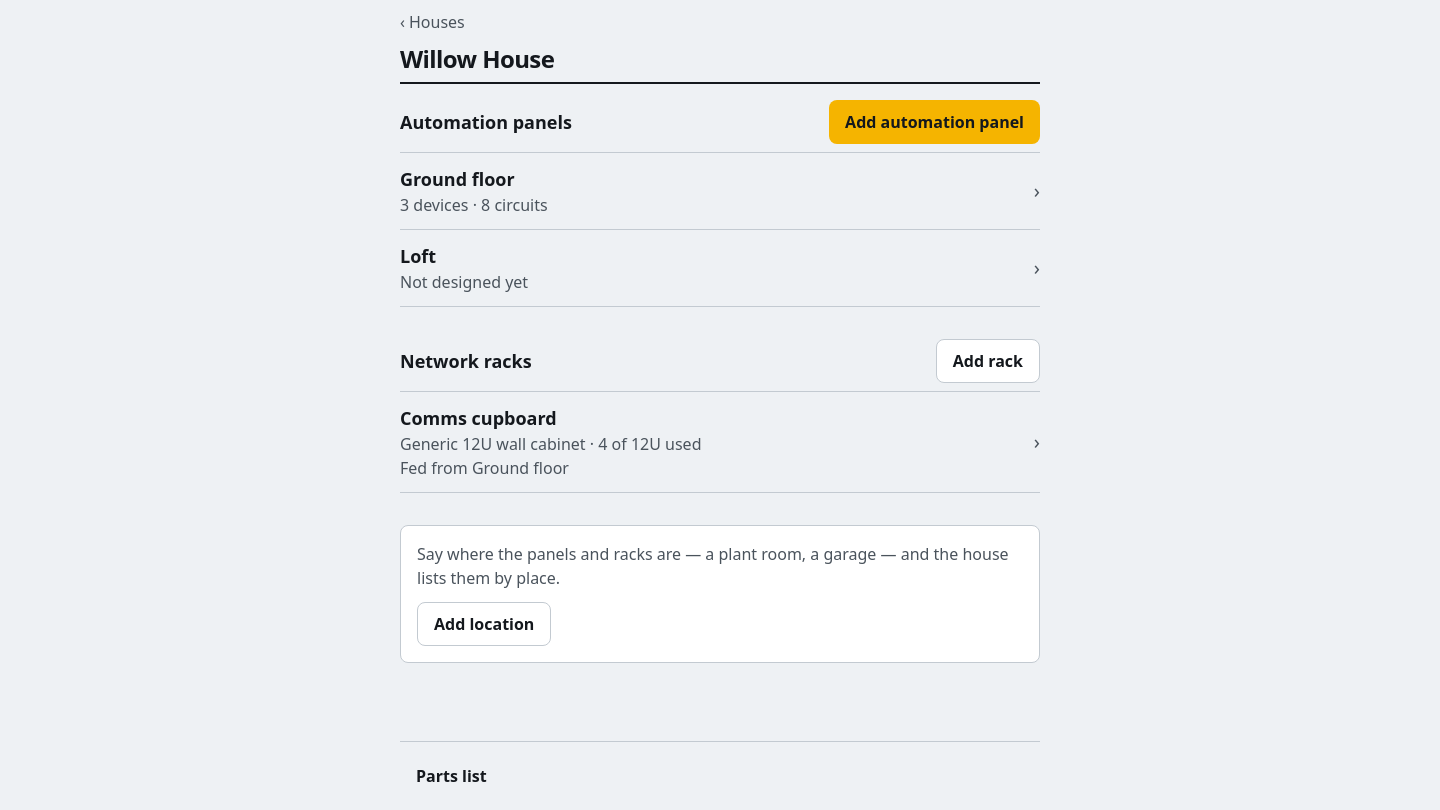
ProjectPage with locations › adds a location from a sheet and shows it
Click the button "Add location": (484,624) [417,602,551,646]
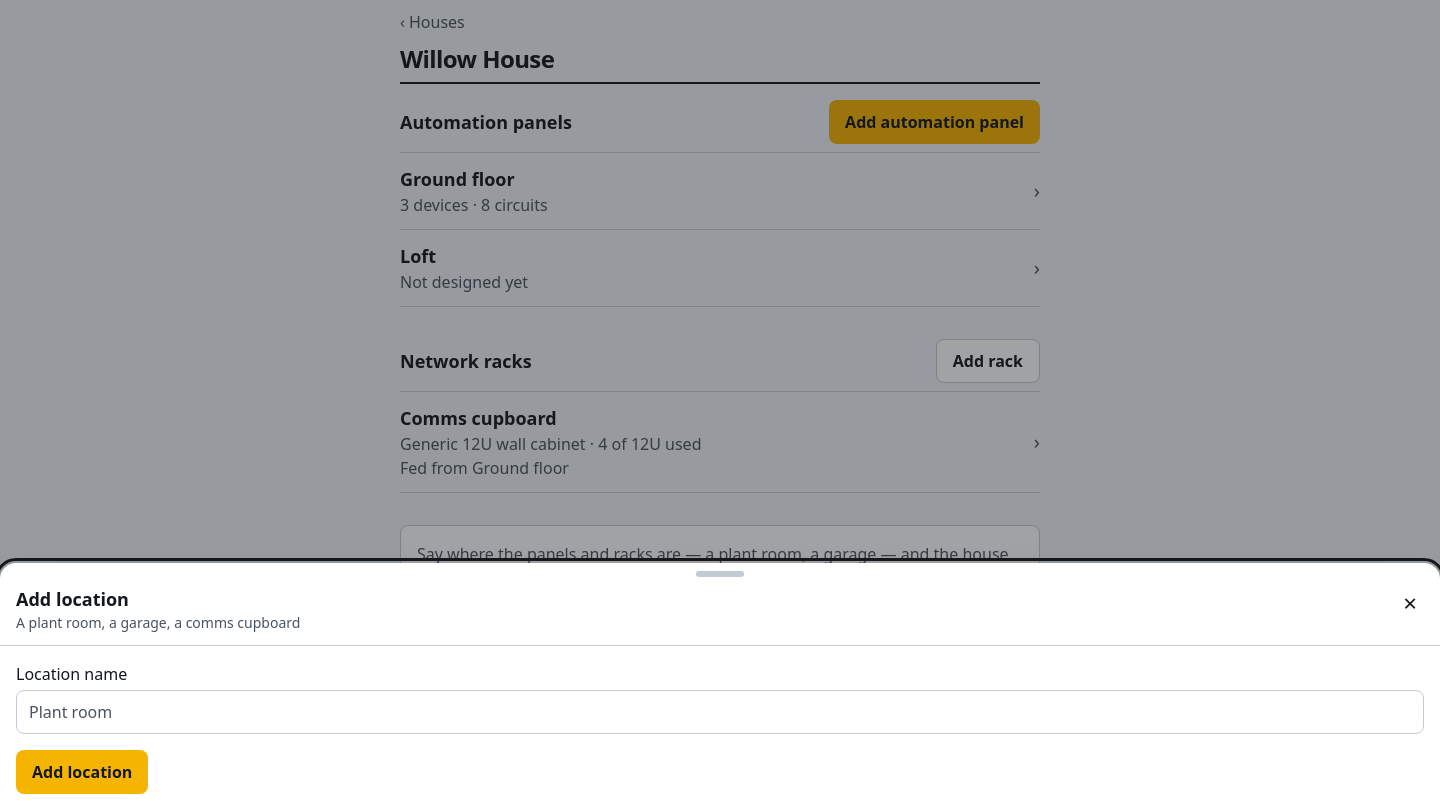
In the field labelled "Location name": (720,712) [16,690,1424,734], type "Garage"
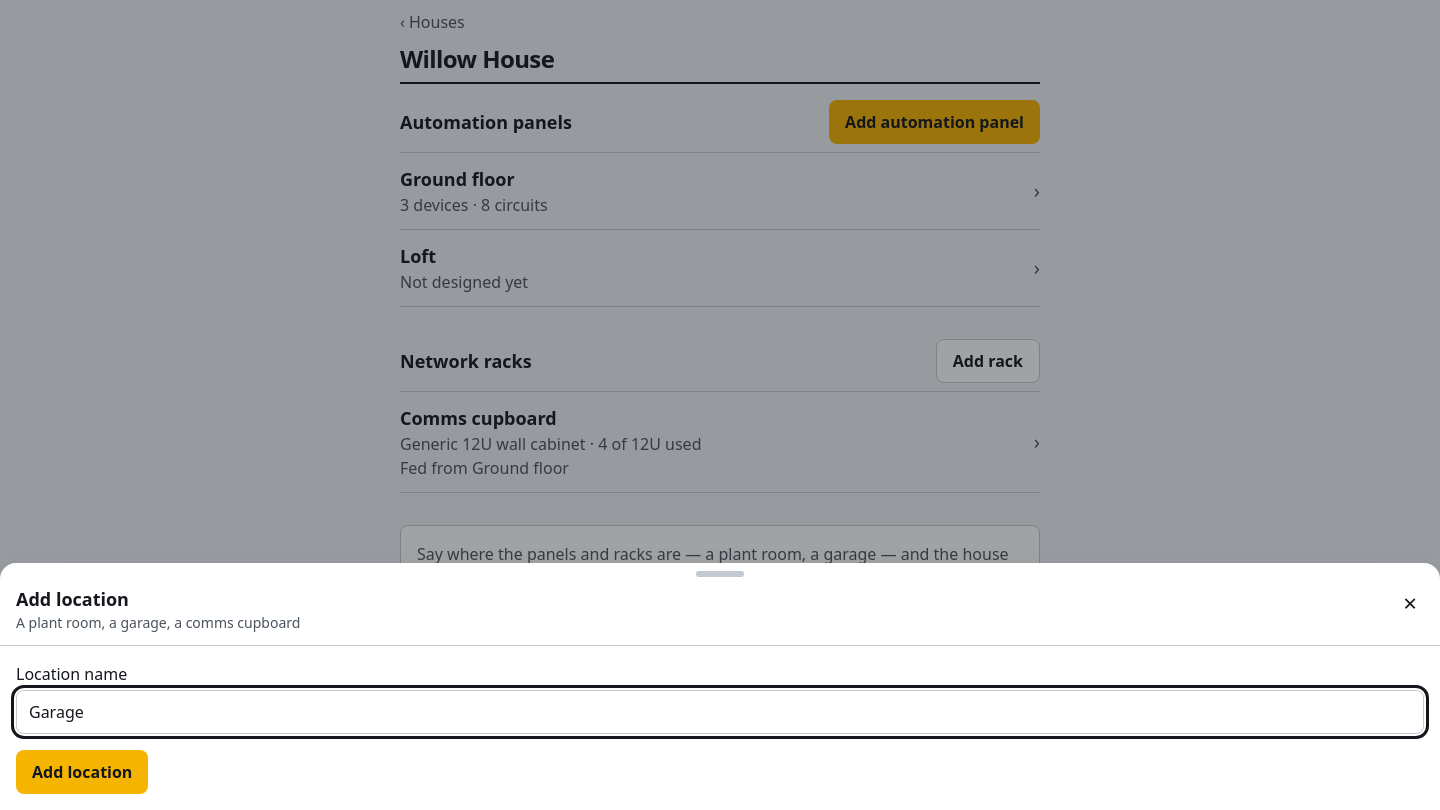
Click the button "Add location": (82,772) [16,750,148,794]
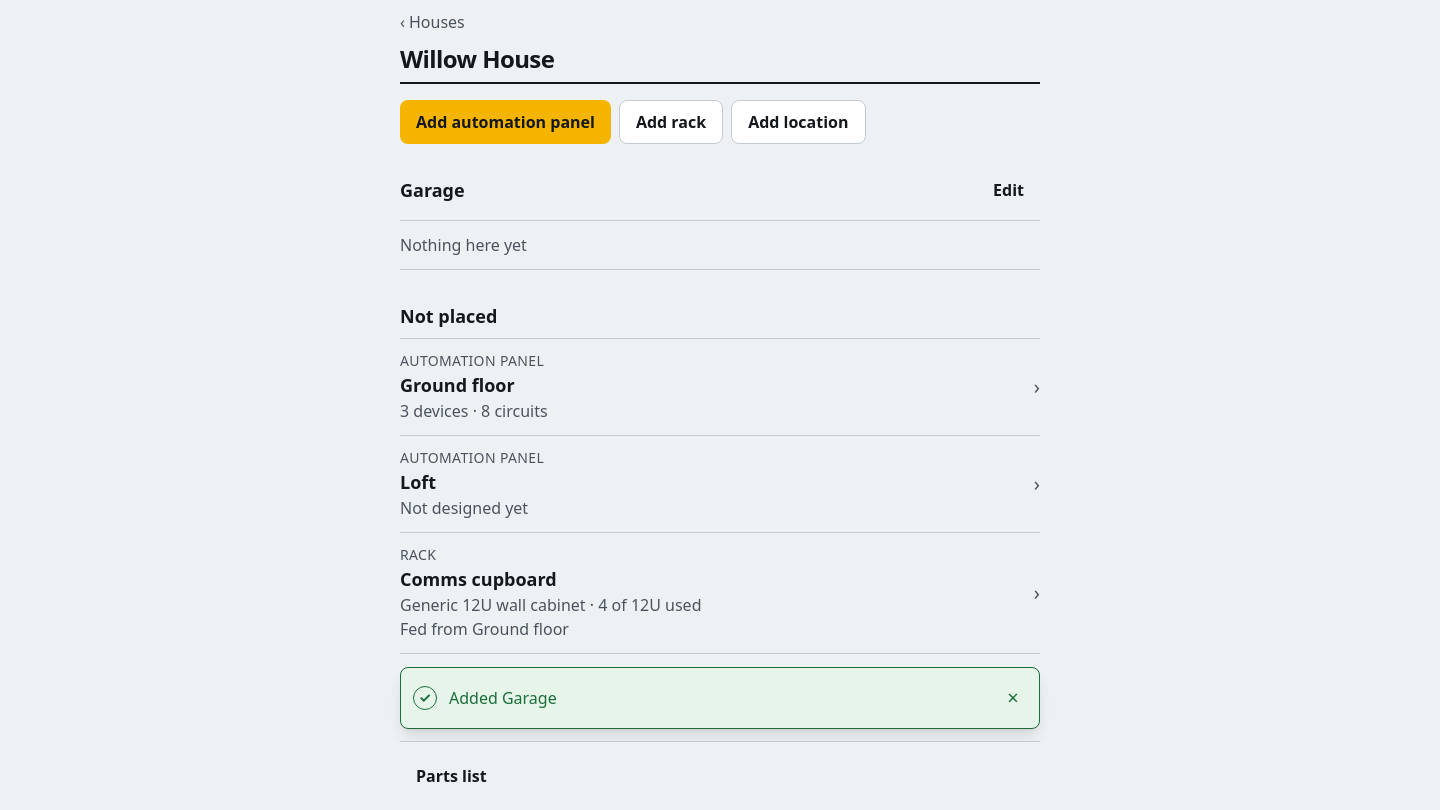
Expected: the element "Garage" is shown, [400,168,1040,270]
Expected: the dialog is gone
Expected: the message shows "Added Garage", [449,687,557,709]
